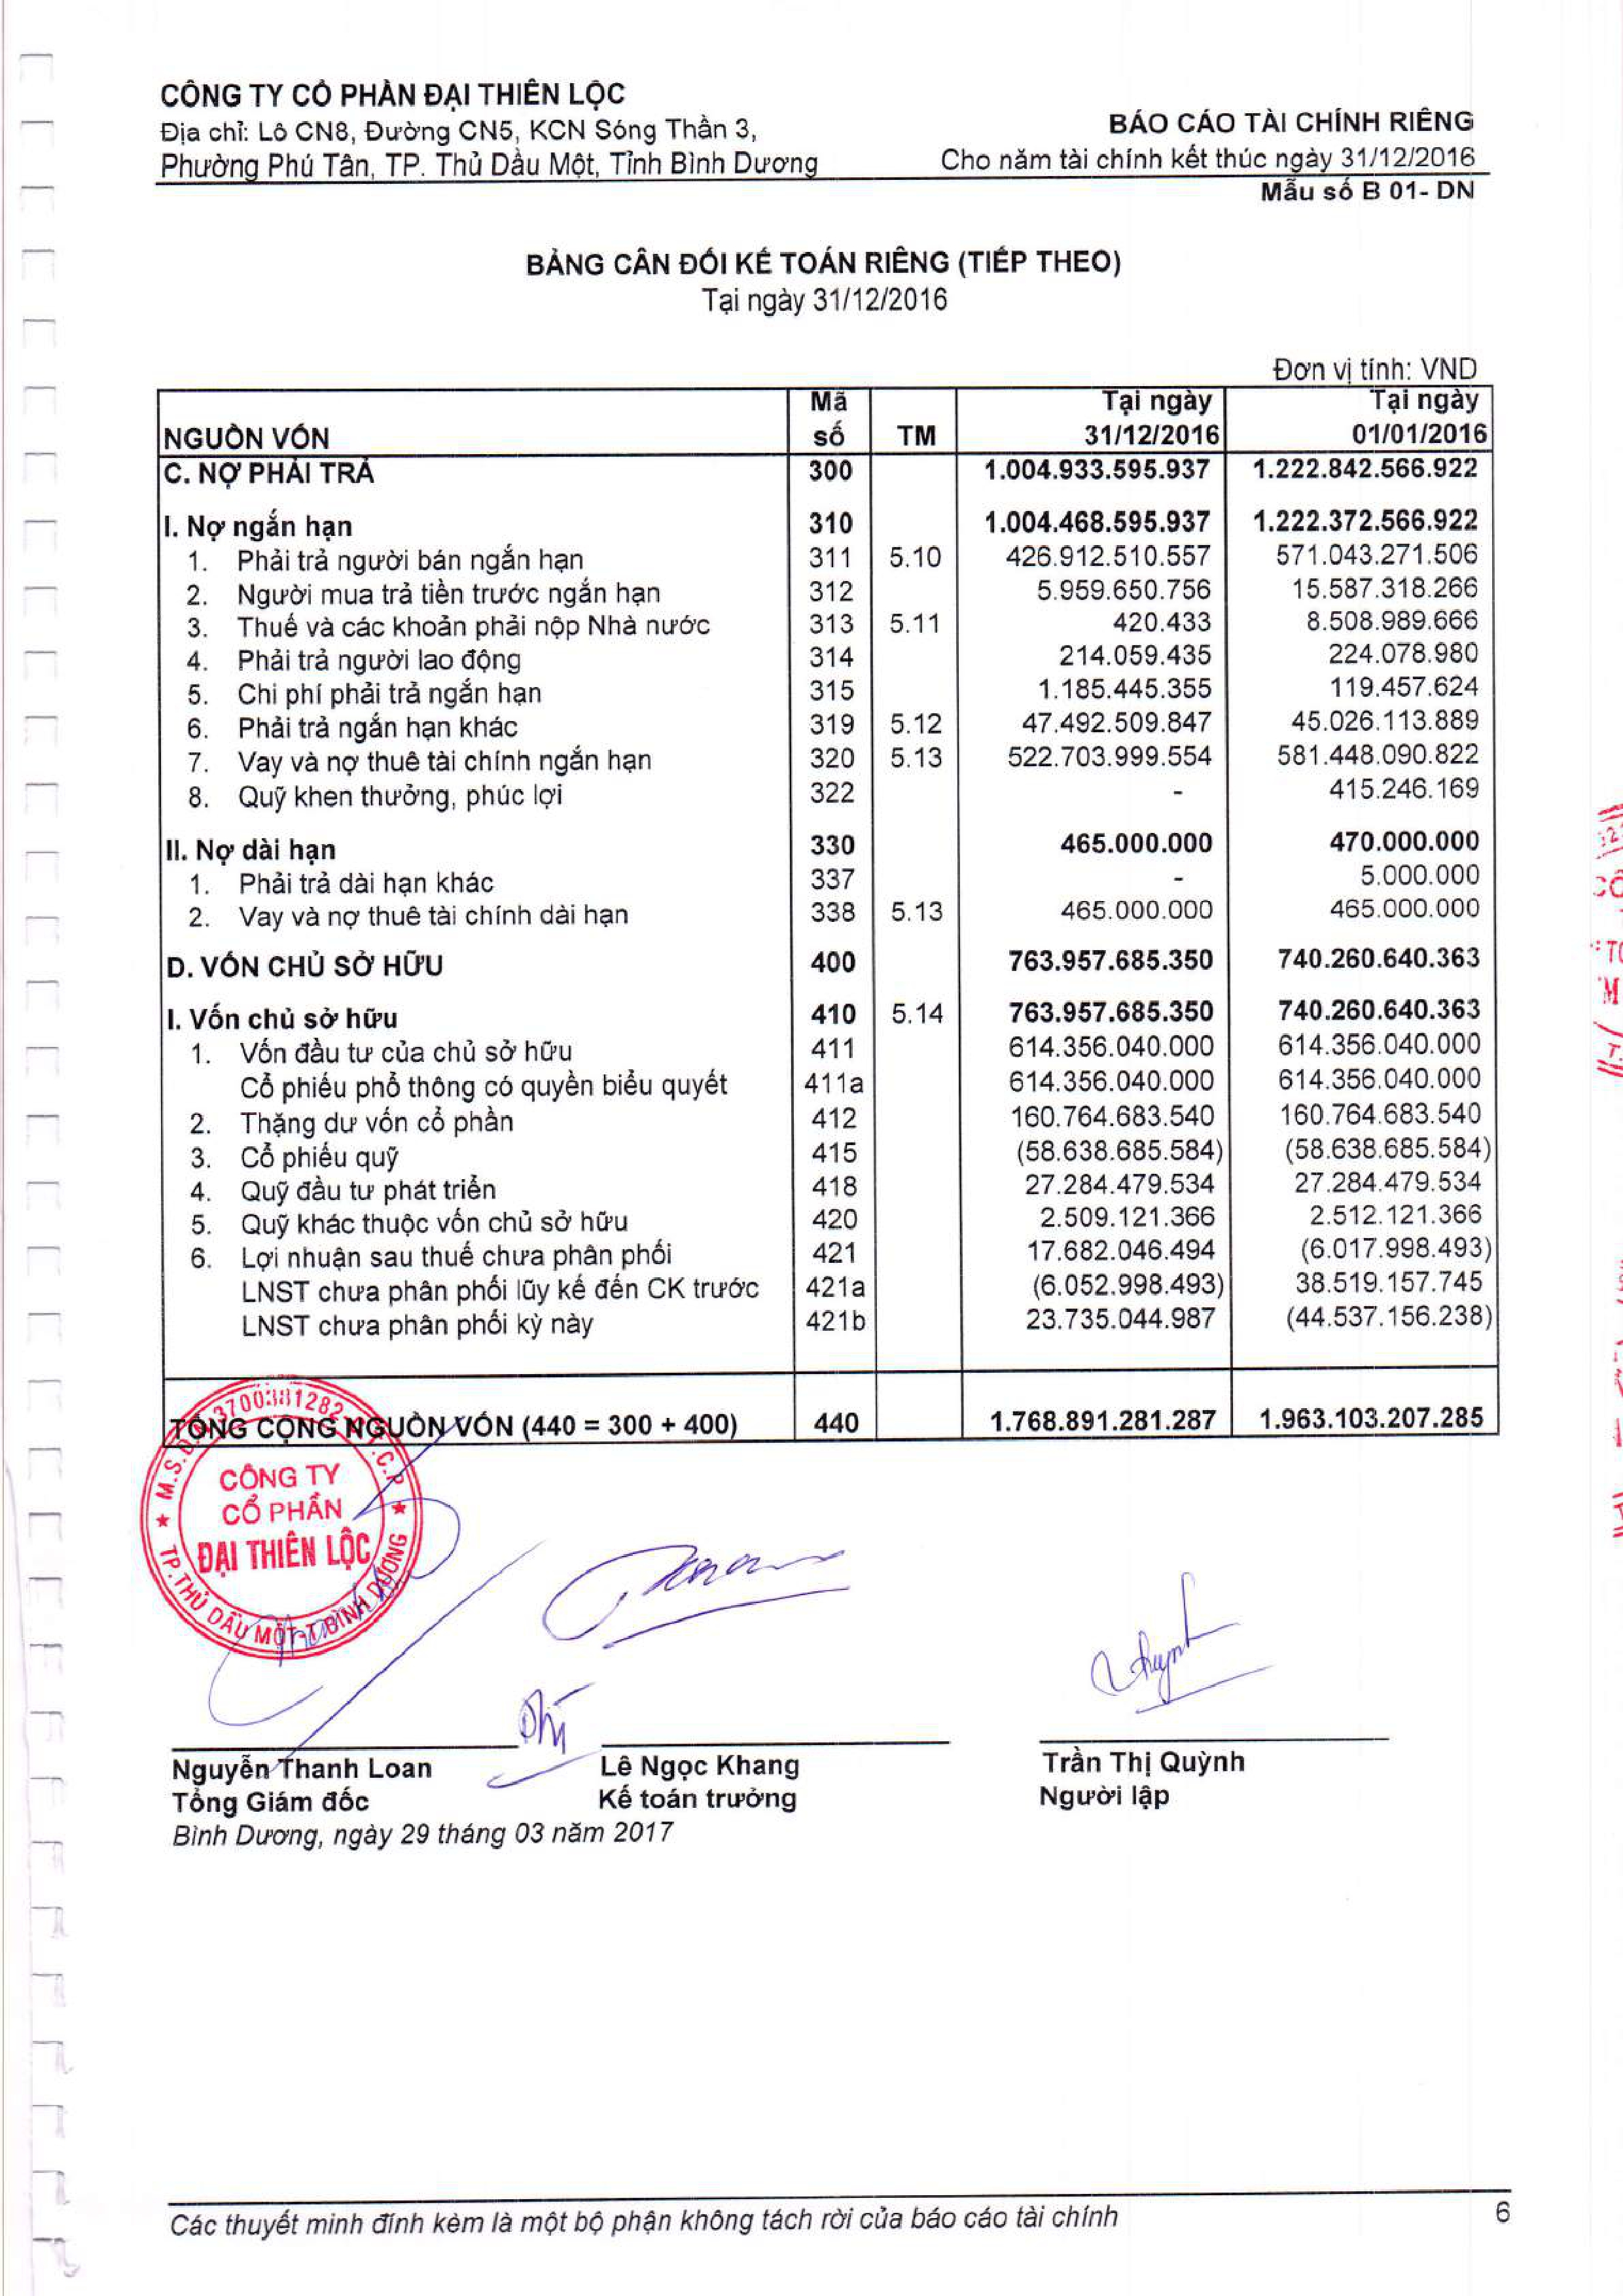table: (151, 381, 1509, 1452)
table column: (169, 381, 761, 1452), (1240, 381, 1497, 1452), (970, 381, 1224, 1452), (794, 381, 864, 1452), (882, 381, 950, 1452)
table column header: (151, 381, 1509, 458)
table row: (151, 391, 1509, 453), (151, 465, 1509, 507), (151, 511, 1509, 553), (151, 1301, 1509, 1338), (151, 948, 1509, 983), (151, 553, 1509, 586), (151, 718, 1509, 751), (151, 751, 1509, 785), (151, 834, 1509, 867), (151, 899, 1509, 932), (151, 1001, 1509, 1034), (151, 1036, 1509, 1069), (151, 1266, 1509, 1299), (151, 586, 1509, 618), (151, 618, 1509, 649), (151, 651, 1509, 683), (151, 685, 1509, 716), (151, 786, 1509, 818), (151, 1073, 1509, 1104), (151, 1104, 1509, 1136), (151, 1136, 1509, 1167), (151, 1167, 1509, 1199), (151, 1201, 1509, 1232), (151, 1234, 1509, 1266), (151, 1401, 1509, 1432), (151, 867, 1509, 897)
